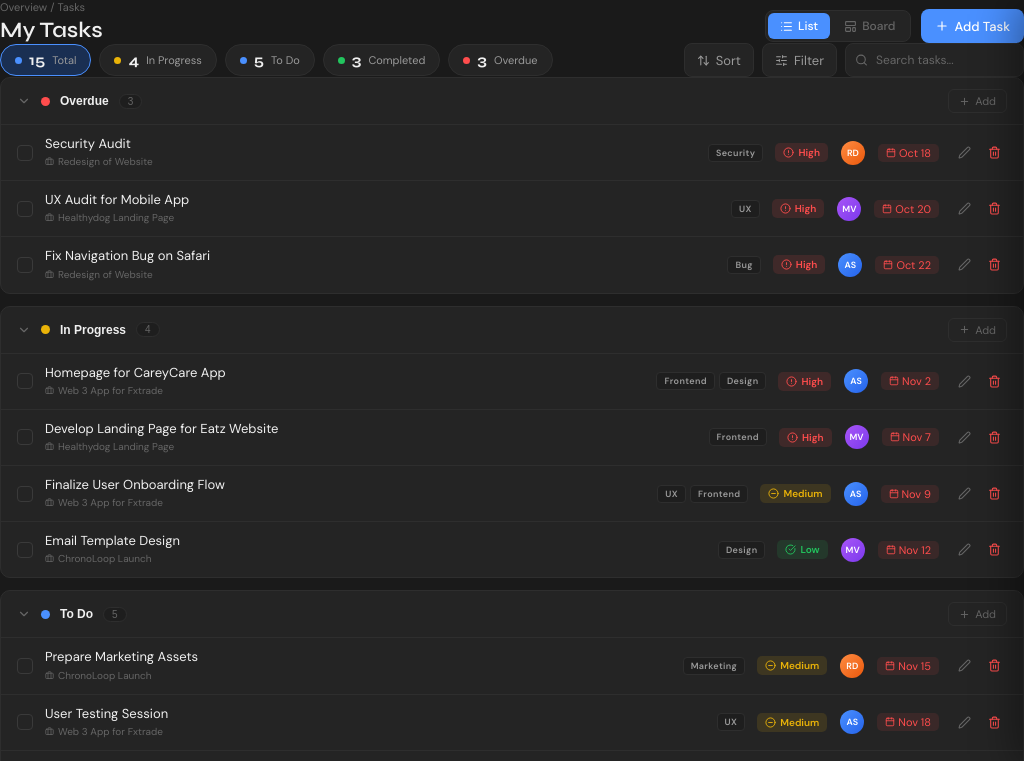
Test: TasksPage › clicking a stat chip filters the visible tasks to that status
Click the button "3 Completed": click(382, 60) [323,44,440,76]
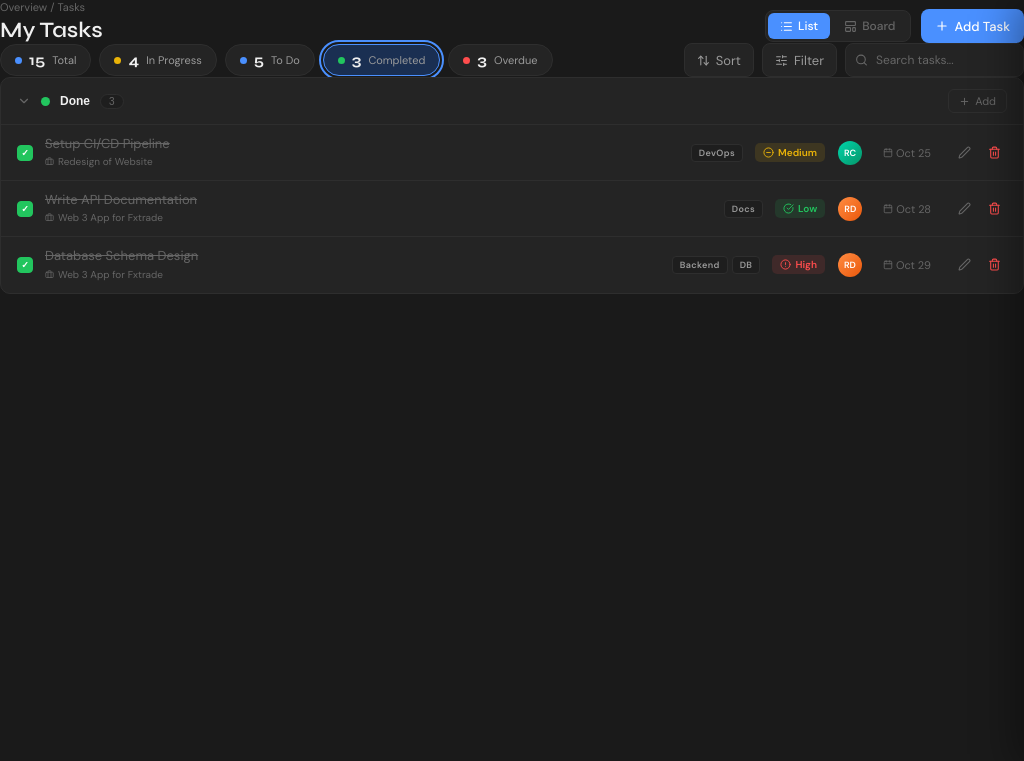
Expected: the text "Write API Documentation" is shown, [45,191,197,208]
Now the text "Prepare Marketing Assets" is gone
